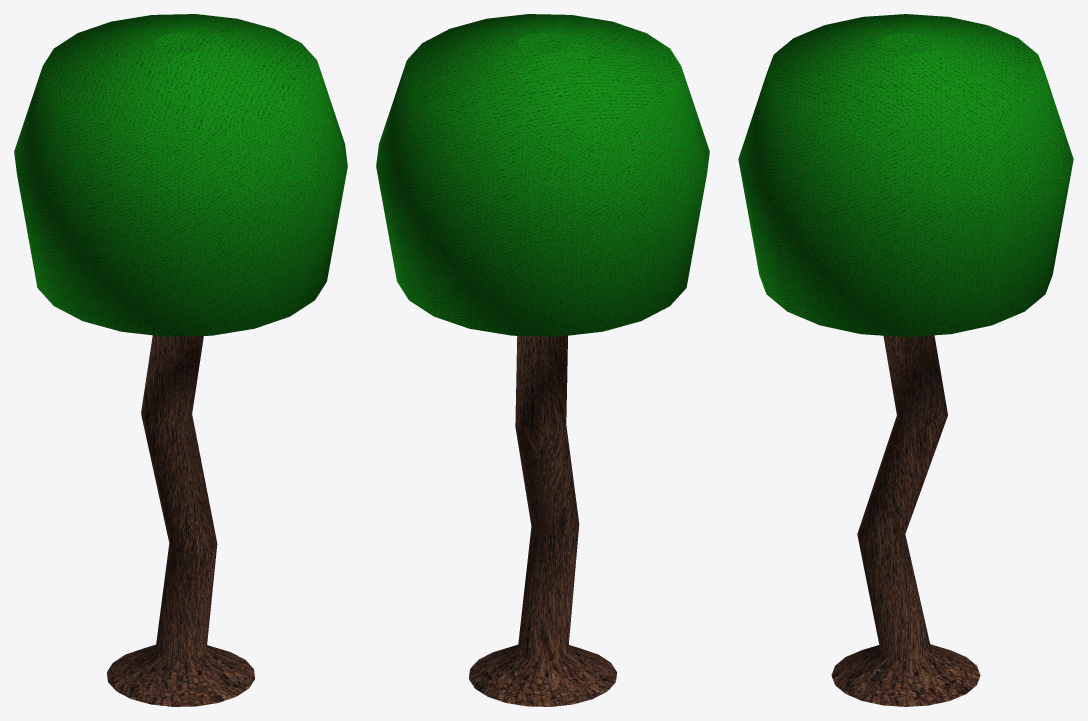
File: tree.fbx
3 views of the same model, side by side, from view 1: azimuth 30°, elevation 25°; view 2: azimuth 150°, elevation 25°; view 3: azimuth 270°, elevation 25° (orthographic).
Visible parts, largest first — view 1: Tree1; view 2: Tree1; view 3: Tree1.
Boxes of the visible parts, bbox=[...] form: Tree1: bbox=[14, 14, 347, 706]; Tree1: bbox=[376, 14, 709, 706]; Tree1: bbox=[738, 14, 1073, 706].
Size of the model in its own units: 2.62 by 5.45 by 2.62.
